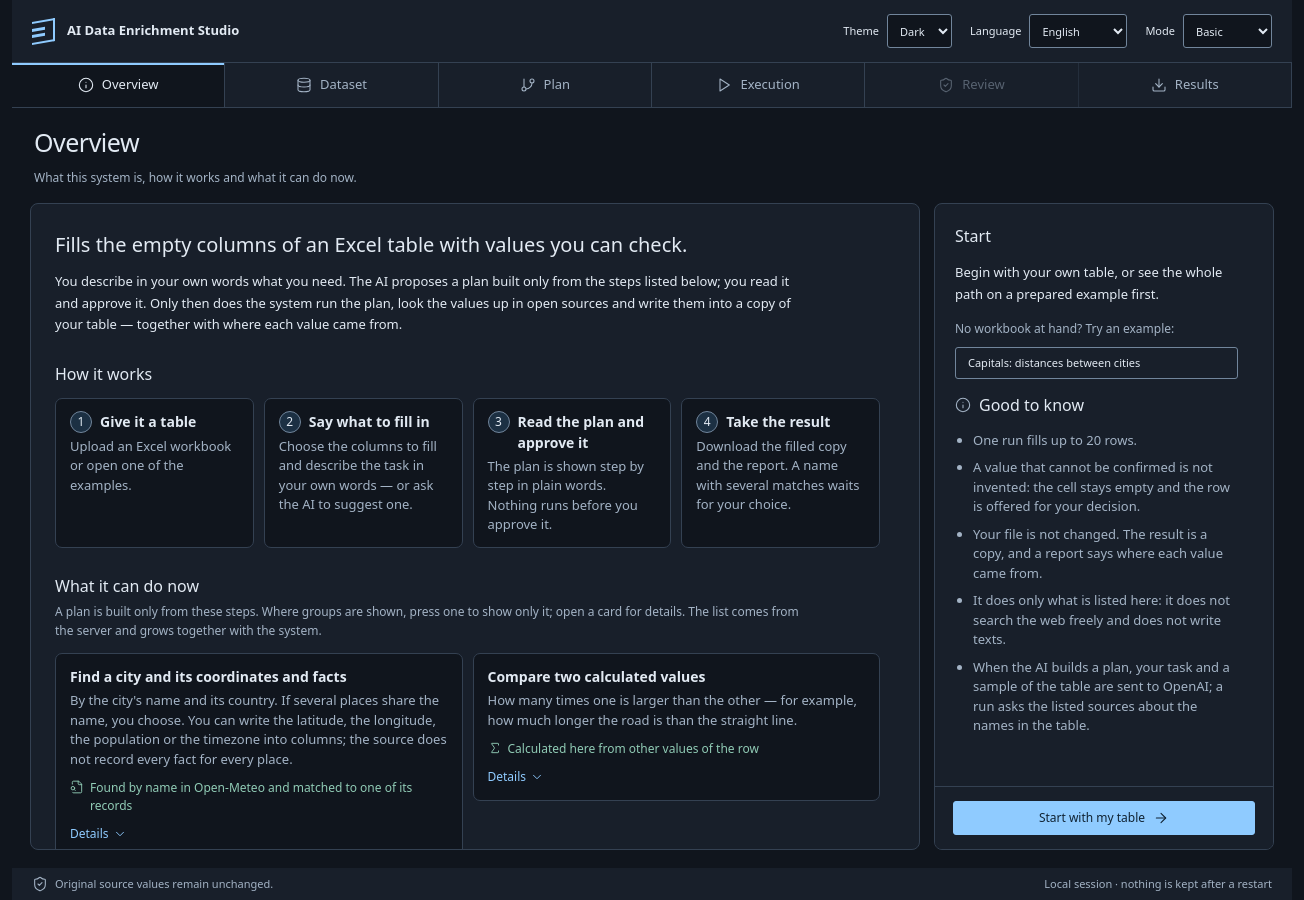
Test: leads to the first step, and opens an example from the overview
Click the button "Start with my table".
click(1104, 818)  # box [953,800,1255,834]
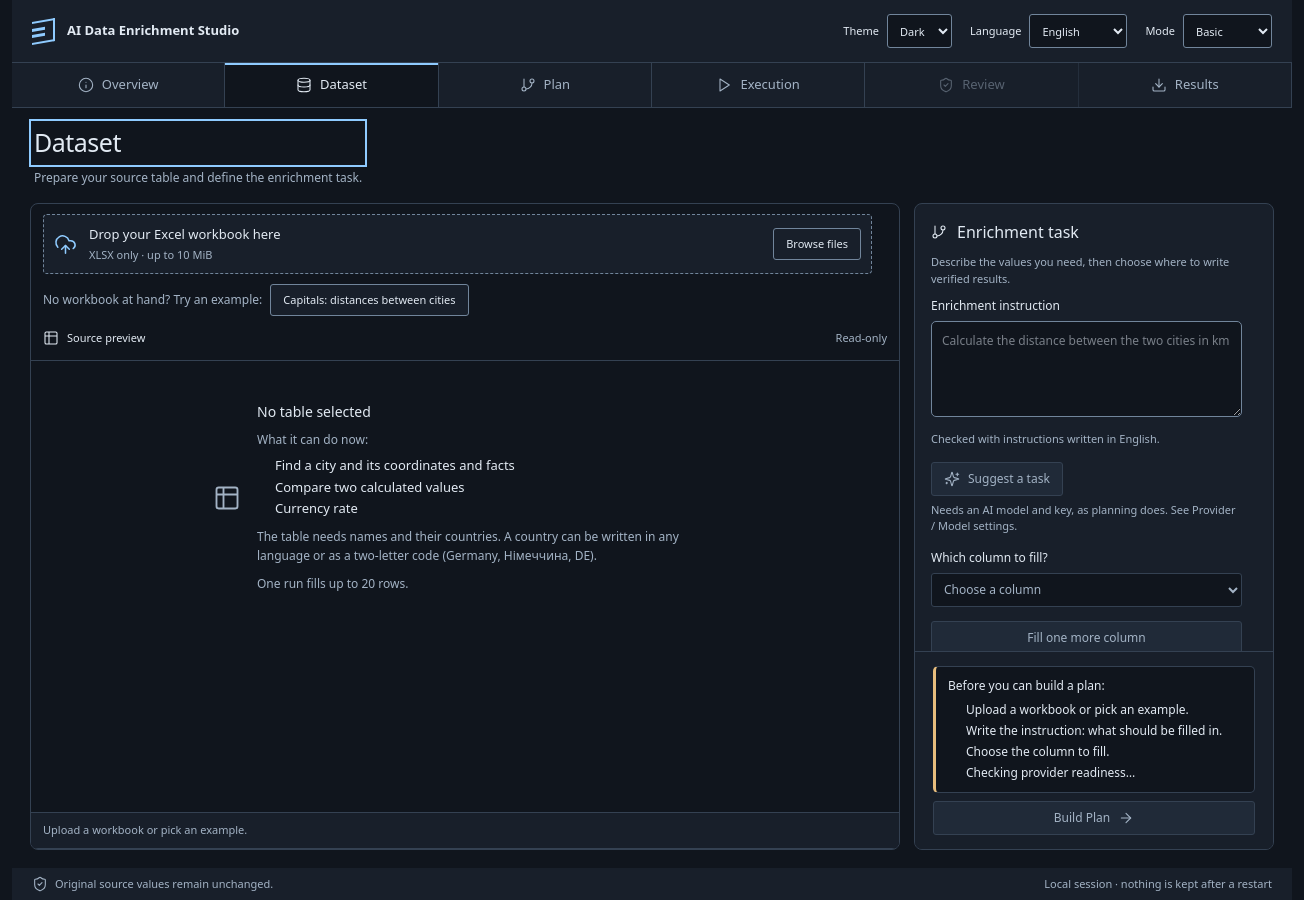
Expected: the heading "Dataset" is shown, [34,125,121,159]
Expected: the element named "Upload Excel workbook" is shown, [43,214,872,274]
Expected: the list item "Currency rate" is shown, [275,499,358,517]
The overview stays one click away and leaves the step as it was.
Click the button "Overview".
click(119, 85)  # box [12,63,225,107]
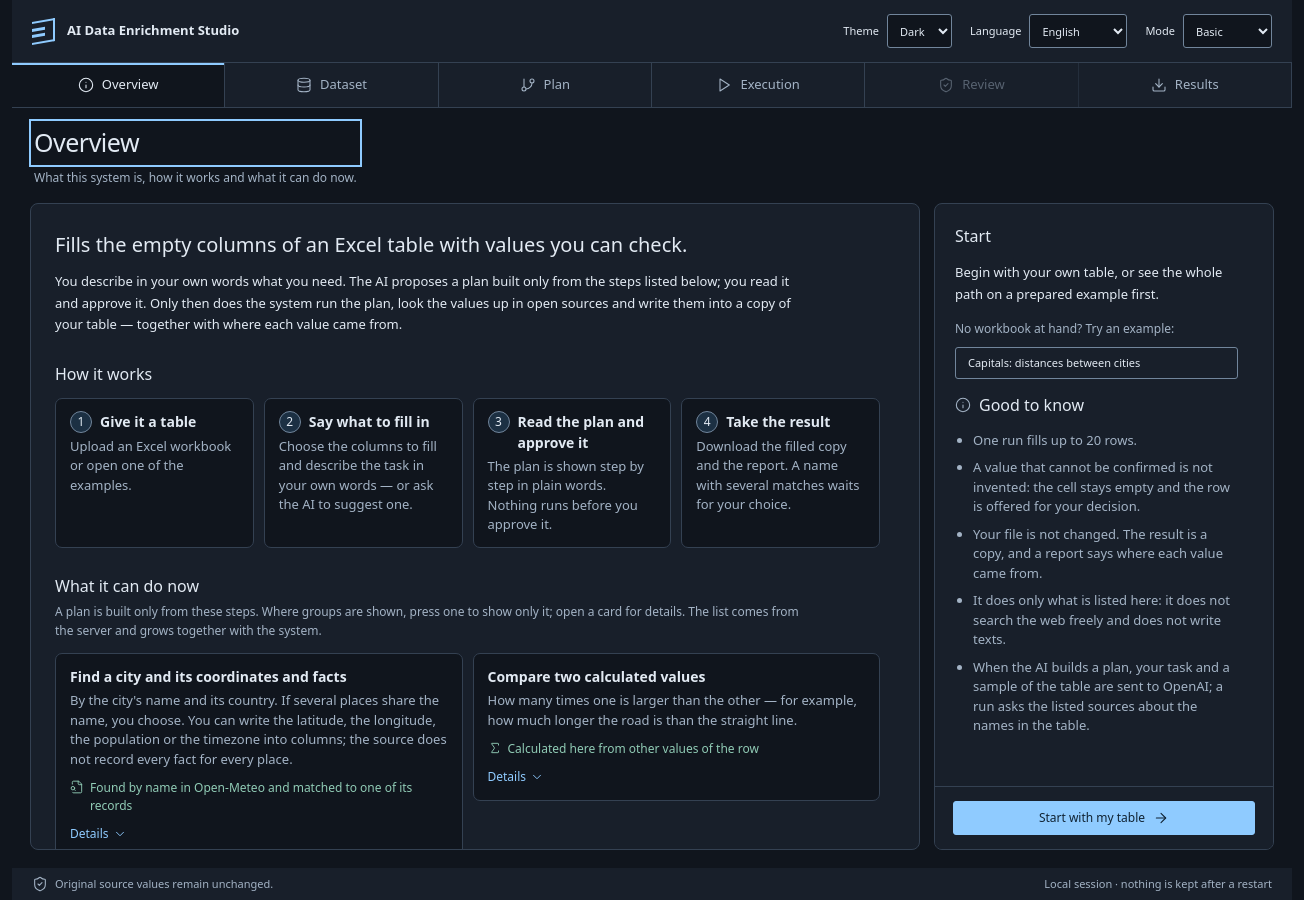
Click the button "Capitals: distances between cities".
click(1096, 363)  # box [955,347,1238,379]
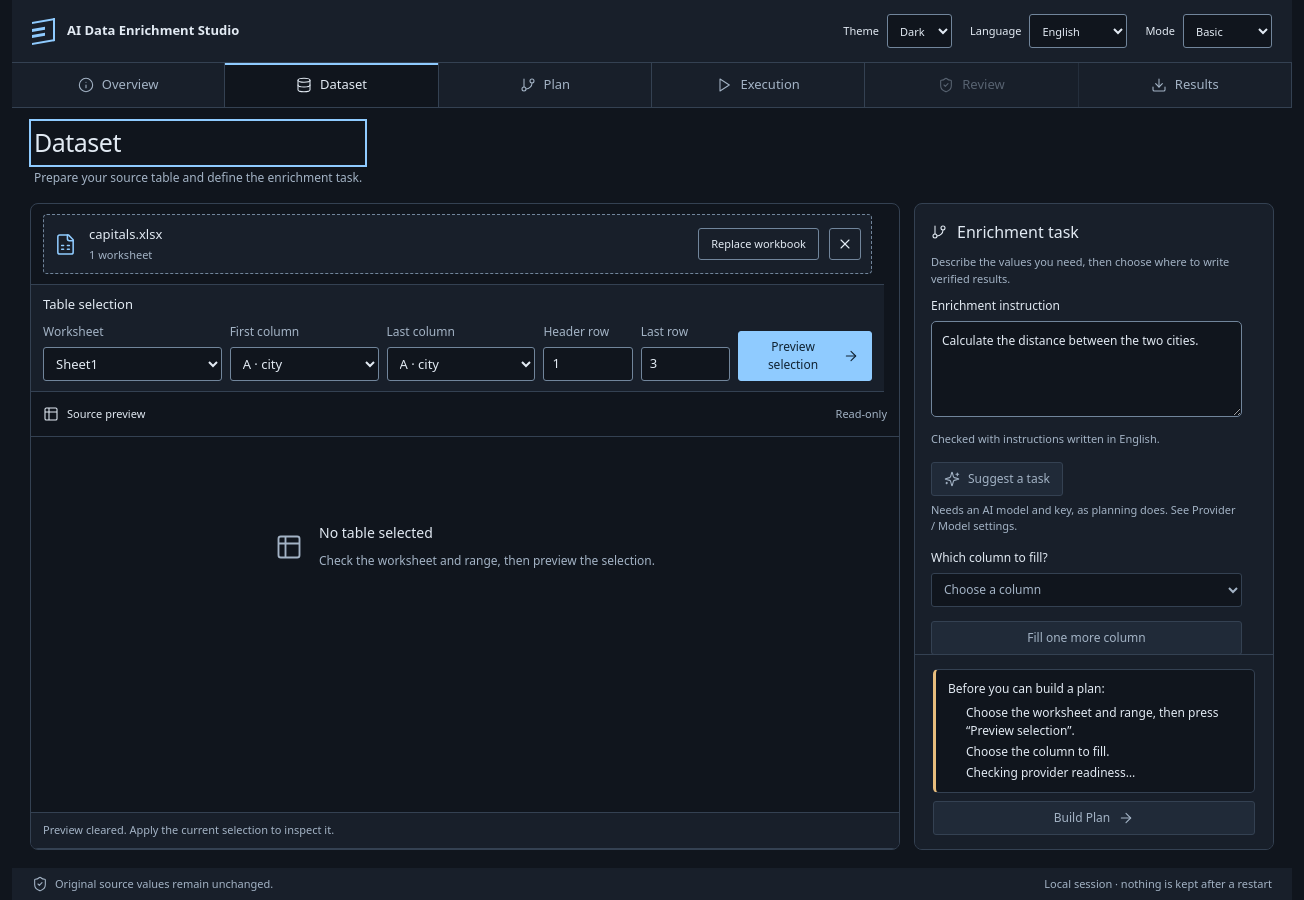
Expected: the heading "Dataset" is shown, [34,125,121,159]
